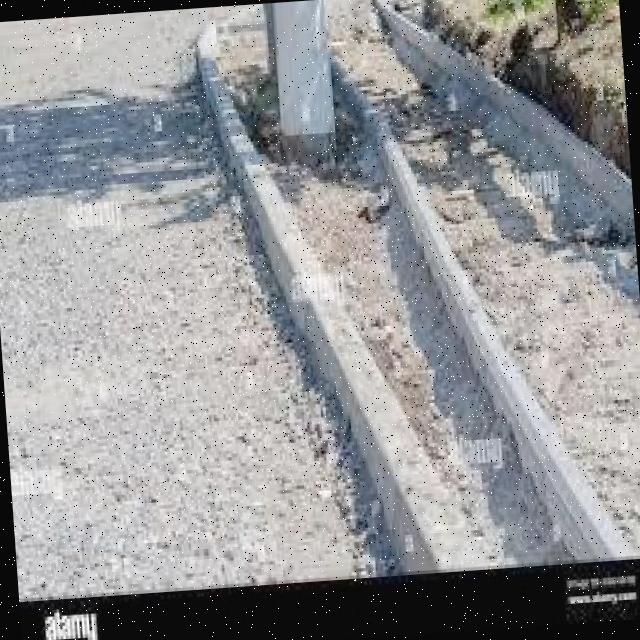curb: (209, 80, 473, 559), (378, 108, 630, 552)
